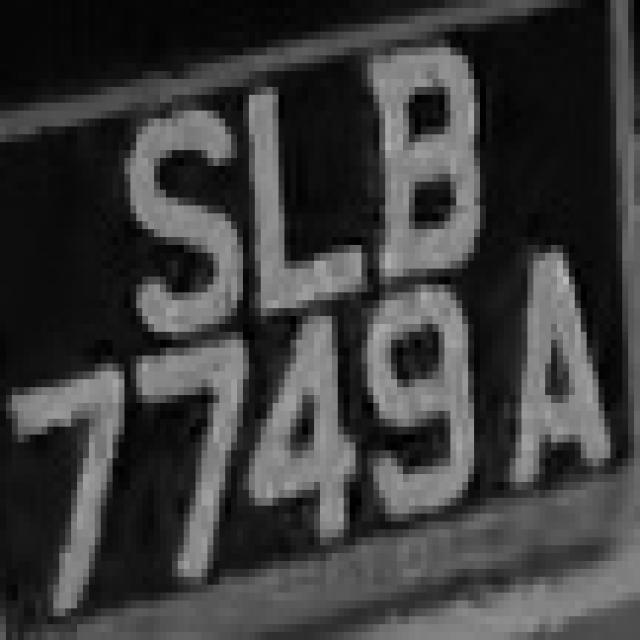4: (243, 292, 373, 553)
7: (130, 308, 261, 601), (0, 356, 142, 624)
9: (338, 261, 498, 537)
A: (486, 214, 628, 522)
B: (343, 32, 498, 268)
L: (225, 71, 362, 348)
S: (118, 103, 243, 340)
